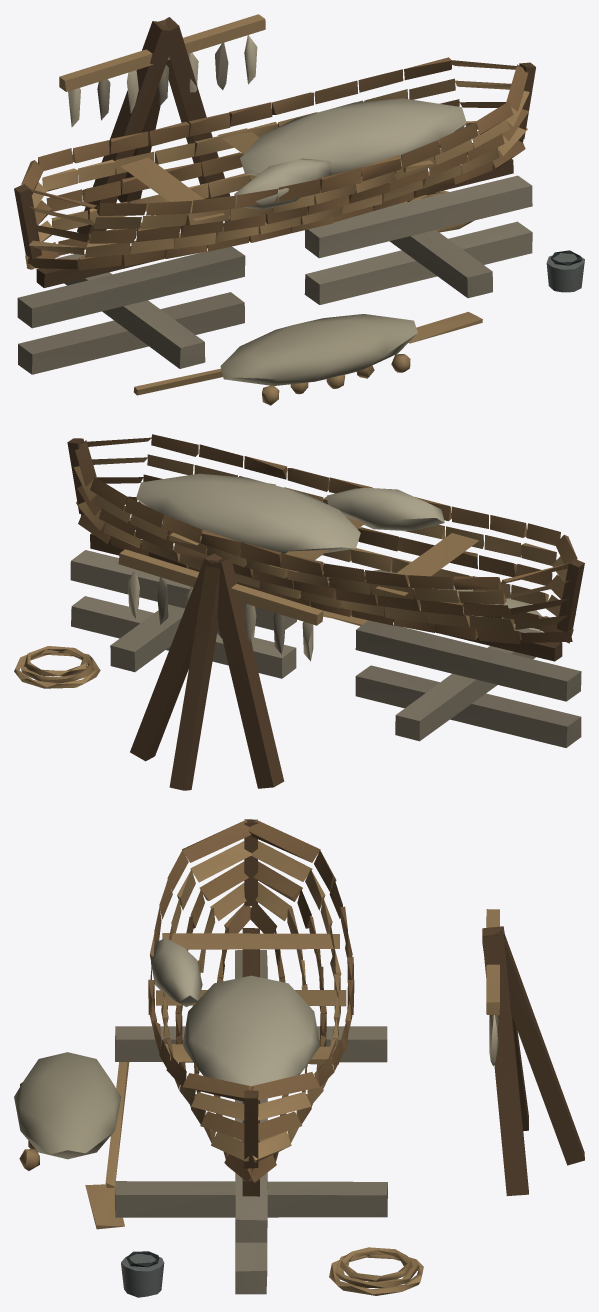
File: skiff_on_blocks_a_lod2.glb
3 renders of one model, top to bottom at view 1: azimuth 30°, elevation 25°; view 2: azimuth 150°, elevation 25°; view 3: azimuth 270°, elevation 25°, orthographic. The views are drawn at different scales.
Visible parts, largest first — view 1: Surface.001; view 2: Surface.001; view 3: Surface.001.
Part boxes in pixels (x1,y1,x2,y2): Surface.001: [14, 14, 584, 405]; Surface.001: [14, 434, 584, 790]; Surface.001: [14, 819, 584, 1297].
Size of the model in its own units: 7.91 by 3.08 by 6.84.
